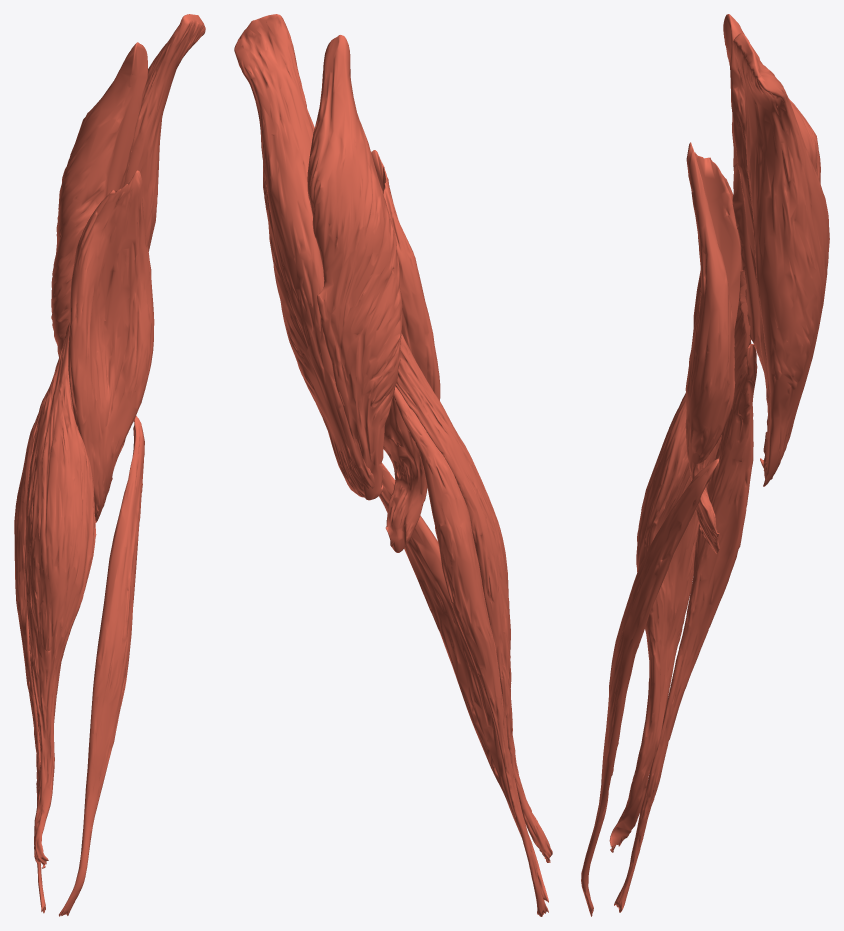
Rendered from arm.glb.
3 views of the same model, side by side, from view 1: azimuth 30°, elevation 25°; view 2: azimuth 150°, elevation 25°; view 3: azimuth 270°, elevation 25° (orthographic). The views are drawn at different scales.
Parts seen in each view (by area): view 1: muscle_brachialis, muscle_brachioradialis, muscle_triceps_long_head, muscle_flexor_carpi_radialis, muscle_biceps_brachii, muscle_extensor_carpi_radialis; view 2: muscle_triceps_long_head, muscle_biceps_brachii, muscle_extensor_carpi_radialis, muscle_brachioradialis, muscle_brachialis, muscle_flexor_carpi_radialis; view 3: muscle_biceps_brachii, muscle_brachialis, muscle_brachioradialis, muscle_extensor_carpi_radialis, muscle_flexor_carpi_radialis, muscle_triceps_long_head.
Part boxes in pixels (bbox=[...]): muscle_brachialis: bbox=[68, 170, 154, 522]; muscle_brachioradialis: bbox=[24, 322, 96, 868]; muscle_triceps_long_head: bbox=[51, 42, 147, 356]; muscle_flexor_carpi_radialis: bbox=[59, 416, 144, 916]; muscle_biceps_brachii: bbox=[124, 14, 205, 251]; muscle_extensor_carpi_radialis: bbox=[14, 389, 48, 913]; muscle_triceps_long_head: bbox=[307, 35, 402, 500]; muscle_biceps_brachii: bbox=[234, 14, 374, 497]; muscle_extensor_carpi_radialis: bbox=[393, 386, 548, 916]; muscle_brachioradialis: bbox=[395, 333, 552, 862]; muscle_brachialis: bbox=[371, 150, 440, 552]; muscle_flexor_carpi_radialis: bbox=[379, 462, 548, 902]; muscle_biceps_brachii: bbox=[733, 33, 829, 486]; muscle_brachialis: bbox=[685, 142, 741, 553]; muscle_brachioradialis: bbox=[609, 270, 751, 852]; muscle_extensor_carpi_radialis: bbox=[614, 344, 757, 912]; muscle_flexor_carpi_radialis: bbox=[581, 458, 718, 916]; muscle_triceps_long_head: bbox=[723, 14, 820, 479].
Size of the model in its own units: 0.1579 by 0.5365 by 0.1218.
